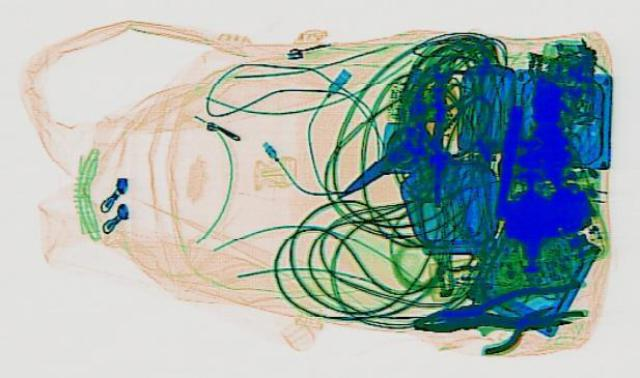Pliers: (402, 277, 600, 344)
